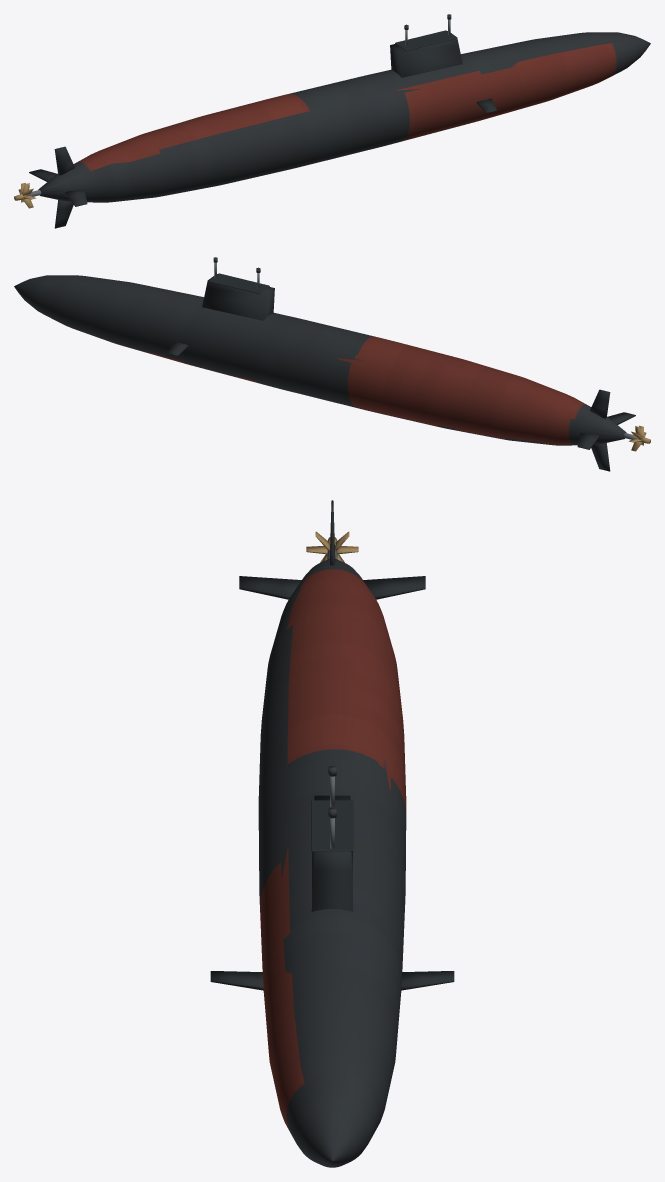
Rendered from US_SSN_Sturgeon_LOD1.fbx.
3 views of the same model, one above another, from view 1: azimuth 30°, elevation 25°; view 2: azimuth 150°, elevation 25°; view 3: azimuth 270°, elevation 25° (orthographic). The views are drawn at different scales.
Parts seen in each view (by area): view 1: US_SSN_Sturgeon_LOD1; view 2: US_SSN_Sturgeon_LOD1; view 3: US_SSN_Sturgeon_LOD1.
Boxes of the visible parts, x1,y1,x2,y2 form: US_SSN_Sturgeon_LOD1: [14, 14, 650, 228]; US_SSN_Sturgeon_LOD1: [14, 257, 650, 471]; US_SSN_Sturgeon_LOD1: [210, 500, 454, 1167].
Size of the model in its own units: 95.88 by 15.91 by 16.85.
6 materials, 1 textured.
